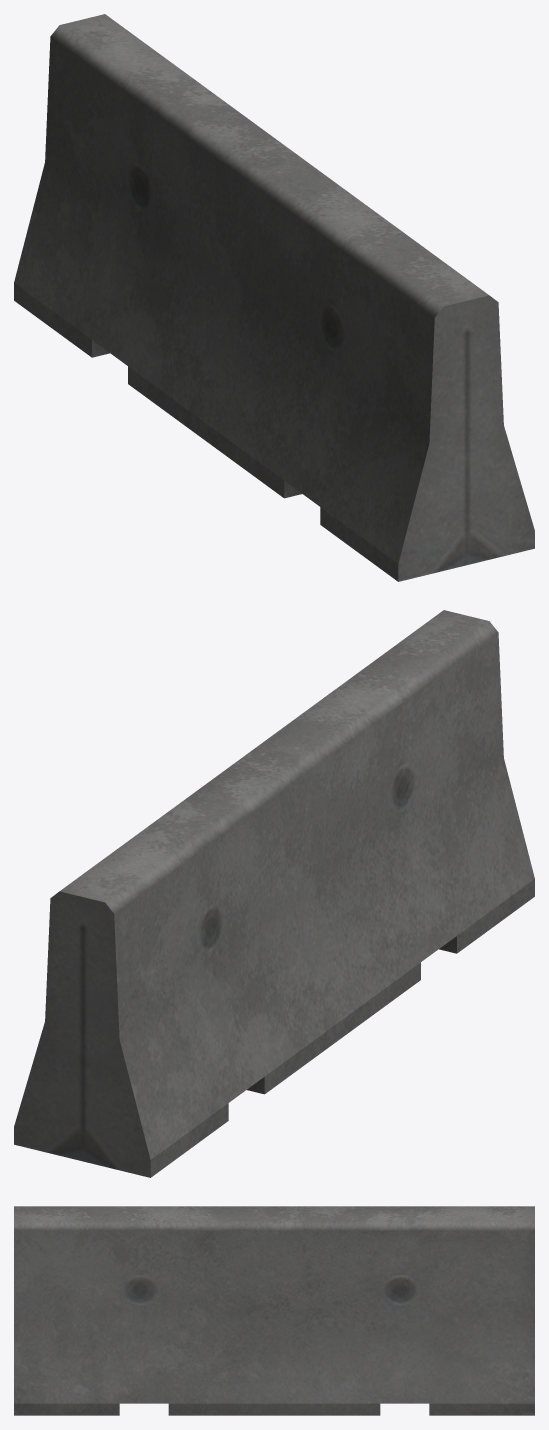
File: prp_cementBarrier.fbx
3 renders of one model, top to bottom at view 1: azimuth 30°, elevation 25°; view 2: azimuth 150°, elevation 25°; view 3: azimuth 270°, elevation 25°, orthographic. The views are drawn at different scales.
Parts seen in each view (by area): view 1: prp_cementBarrier; view 2: prp_cementBarrier; view 3: prp_cementBarrier.
Part boxes in pixels (x1,y1,x2,y2): prp_cementBarrier: (14,14,534,581); prp_cementBarrier: (14,610,534,1177); prp_cementBarrier: (14,1206,534,1415).
Size of the model in its own units: 61.56 by 114 by 300.
